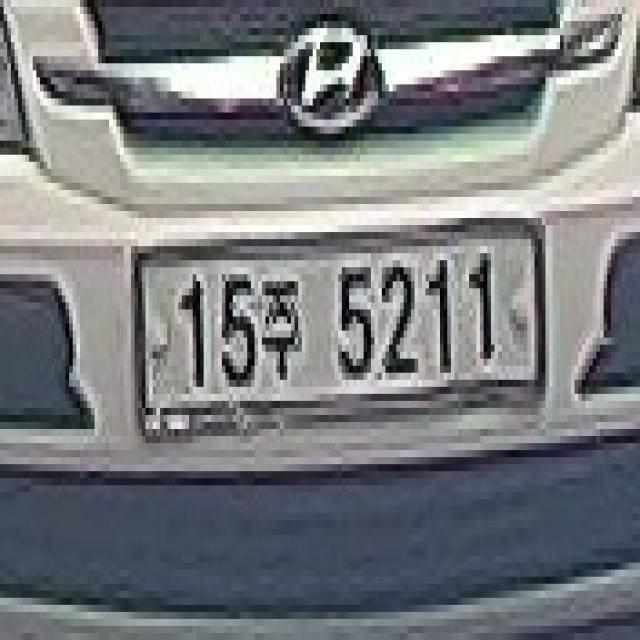1: (462, 232, 505, 387), (174, 253, 214, 408), (425, 246, 462, 394)
2: (374, 253, 426, 401)
5: (211, 260, 262, 401), (331, 260, 374, 394)
ju: (262, 267, 309, 401)
license_plate: (116, 197, 556, 478)
